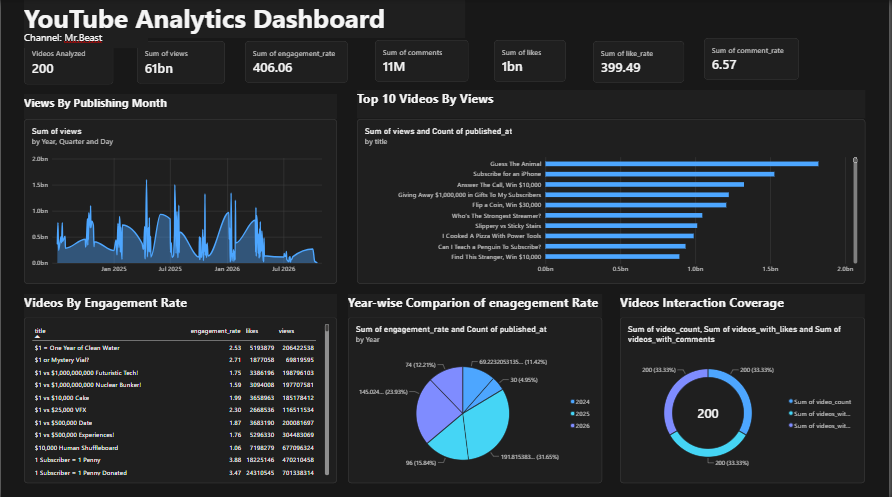

This screenshot's page, from the dashboard's own definition file:
{"tool":"powerbi","page":{"name":"Page 1","canvas":[1920,1080],"ordinal":0},"visuals":[{"type":"cardVisual","fields":{"Data":["channel_summary.Videos Analyzed"]},"box":[48.8,85.4,193.3,96.7],"z":0},{"type":"cardVisual","fields":{"Data":["Sum(engagement_analysis.comments)"]},"box":[807.3,85.4,202.9,90],"z":1000},{"type":"cardVisual","fields":{"Data":["Sum(engagement_analysis.engagement_rate)"]},"box":[526.8,87.8,222.5,90],"z":2000},{"type":"stackedAreaChart","fields":{"Category":["videos.published_at.Variation.Date Hierarchy.Year","videos.published_at.Variation.Date Hierarchy.Quarter","videos.published_at.Variation.Date Hierarchy.Day"],"Y":["Sum(video_metrics.views)"]},"box":[48.8,256.1,675.6,356.1],"z":3000},{"type":"cardVisual","fields":{"Data":["Sum(video_metrics.likes)"]},"box":[1065.9,85.4,155,90],"z":4000},{"type":"donutChart","fields":{"Y":["Sum(channel_summary.video_count)","Sum(channel_summary.videos_with_likes)","Sum(channel_summary.videos_with_comments)"]},"box":[1336.6,685.4,529.2,358.6],"z":5000},{"type":"pieChart","fields":{"Category":["videos.published_at.Variation.Date Hierarchy.Year"],"Y":["Sum(engagement_analysis.engagement_rate)","Count(videos.published_at)"]},"box":[748.8,685.4,548.8,358.5],"z":6000},{"type":"barChart","fields":{"Category":["videos.title"],"Y":["Sum(engagement_analysis.views)"]},"box":[768.3,256.1,1097.6,356.1],"z":7000},{"type":"cardVisual","fields":{"Data":["Sum(engagement_analysis.views)"]},"box":[292.7,87.8,190,92.5],"z":8000},{"type":"cardVisual","fields":{"Data":["Sum(engagement_analysis.like_rate)"]},"box":[1278,87.8,197.5,90],"z":9000},{"type":"cardVisual","fields":{"Data":["Sum(engagement_analysis.comment_rate)"]},"box":[1519.5,82.9,205,90],"z":10000},{"type":"textbox","box":[49.7,0,952.6,82.1],"z":11000},{"type":"tableEx","fields":{"Values":["videos.title","engagement_analysis.engagement_rate","video_metrics.likes","video_metrics.views"]},"box":[48.8,685.4,676.1,358.6],"z":12000},{"type":"textbox","box":[48.8,65.9,268.3,39],"z":13000},{"type":"textbox","box":[48.8,202.4,675.6,53.7],"z":14000},{"type":"textbox","box":[768.3,195.1,1097.6,61],"z":14001},{"type":"textbox","box":[48.8,634.1,675.6,51.2],"z":14002},{"type":"textbox","box":[748.8,634.1,548.8,51.2],"z":14003},{"type":"textbox","box":[1336.6,634.1,529.3,51.2],"z":14004}]}

Visuals, with their boxes in screenshot pixels (x1, y1, x2, y2), scaled from the page's 1920x1080 canvas onto the 892x497 screenshot:
cardVisual - channel_summary.Videos Analyzed: {"left": 23, "top": 39, "right": 112, "bottom": 84}
cardVisual - Sum(engagement_analysis.comments): {"left": 375, "top": 39, "right": 469, "bottom": 81}
cardVisual - Sum(engagement_analysis.engagement_rate): {"left": 245, "top": 40, "right": 348, "bottom": 82}
stackedAreaChart - videos.published_at.Variation.Date Hierarchy.Year x videos.published_at.Variation.Date Hierarchy.Quarter: {"left": 23, "top": 118, "right": 337, "bottom": 282}
cardVisual - Sum(video_metrics.likes): {"left": 495, "top": 39, "right": 567, "bottom": 81}
donutChart - Sum(channel_summary.video_count) x Sum(channel_summary.videos_with_likes): {"left": 621, "top": 315, "right": 867, "bottom": 480}
pieChart - videos.published_at.Variation.Date Hierarchy.Year x Sum(engagement_analysis.engagement_rate): {"left": 348, "top": 315, "right": 603, "bottom": 480}
barChart - videos.title x Sum(engagement_analysis.views): {"left": 357, "top": 118, "right": 867, "bottom": 282}
cardVisual - Sum(engagement_analysis.views): {"left": 136, "top": 40, "right": 224, "bottom": 83}
cardVisual - Sum(engagement_analysis.like_rate): {"left": 594, "top": 40, "right": 685, "bottom": 82}
cardVisual - Sum(engagement_analysis.comment_rate): {"left": 706, "top": 38, "right": 801, "bottom": 80}
textbox: {"left": 23, "top": 0, "right": 466, "bottom": 38}
tableEx - videos.title x engagement_analysis.engagement_rate: {"left": 23, "top": 315, "right": 337, "bottom": 480}
textbox: {"left": 23, "top": 30, "right": 147, "bottom": 48}
textbox: {"left": 23, "top": 93, "right": 337, "bottom": 118}
textbox: {"left": 357, "top": 90, "right": 867, "bottom": 118}
textbox: {"left": 23, "top": 292, "right": 337, "bottom": 315}
textbox: {"left": 348, "top": 292, "right": 603, "bottom": 315}
textbox: {"left": 621, "top": 292, "right": 867, "bottom": 315}
